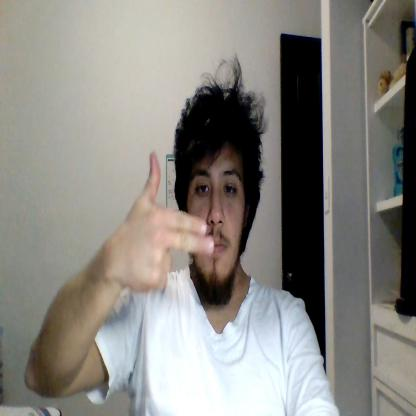H: (131, 149, 215, 293)
